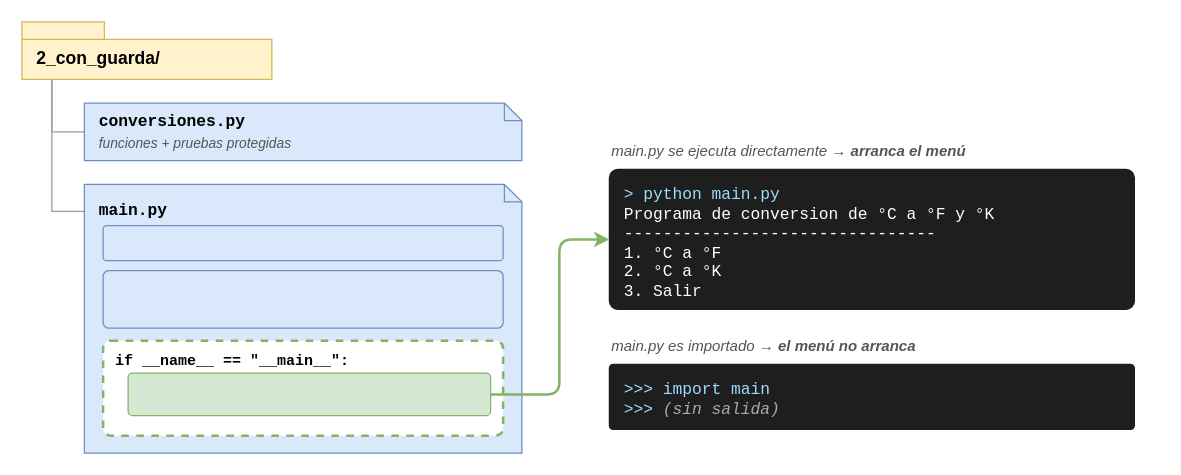
This 1181x475 diagram has some shape labels left out. The shapes that lost their labels are listed below. From the top down, each one's box as (x1, y1, x2, y2) in pixels, then its label:
(102, 224, 503, 261): import conversiones
(102, 269, 503, 328): def main(): # menú (while True ...)
(127, 372, 491, 416): main()
